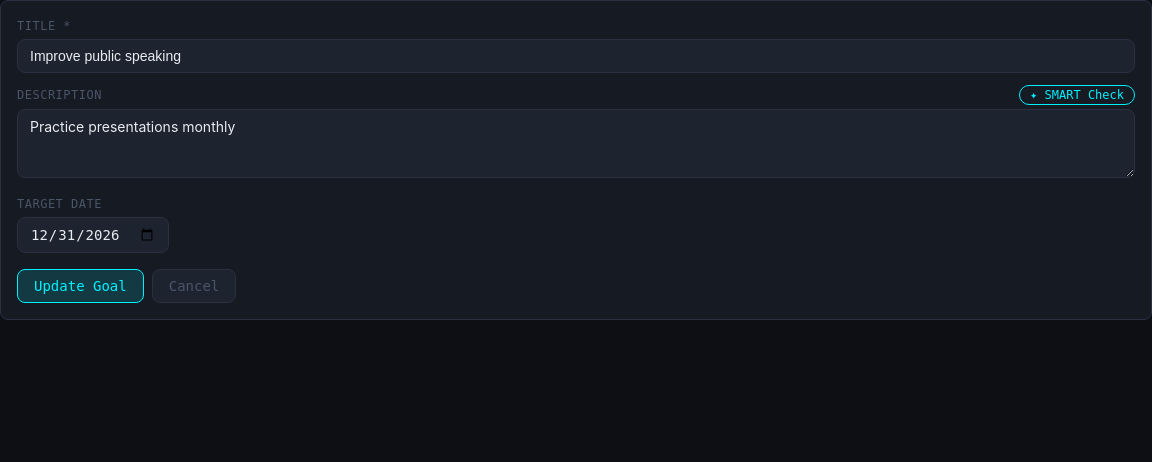
PdpGoalForm › should apply AI suggestion as description when no structured format
Click the button with test id "pdp-goal-smart-check-btn" at (1077, 95), box [1019,85,1135,105]
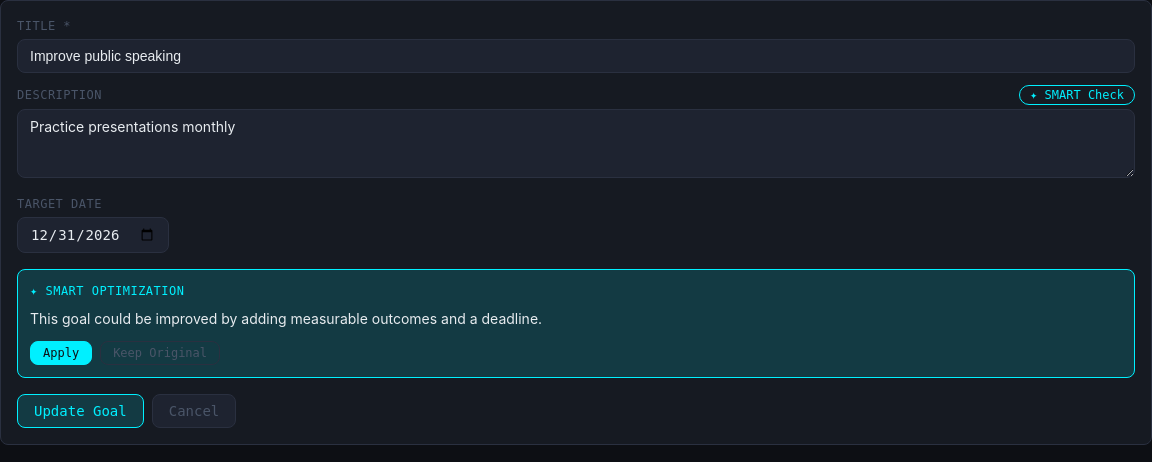
Now the element with test id "pdp-goal-ai-comparison" is shown, box [17,269,1135,378]
Click the button with test id "pdp-goal-ai-apply-btn" at (61, 353), box [30,341,92,365]
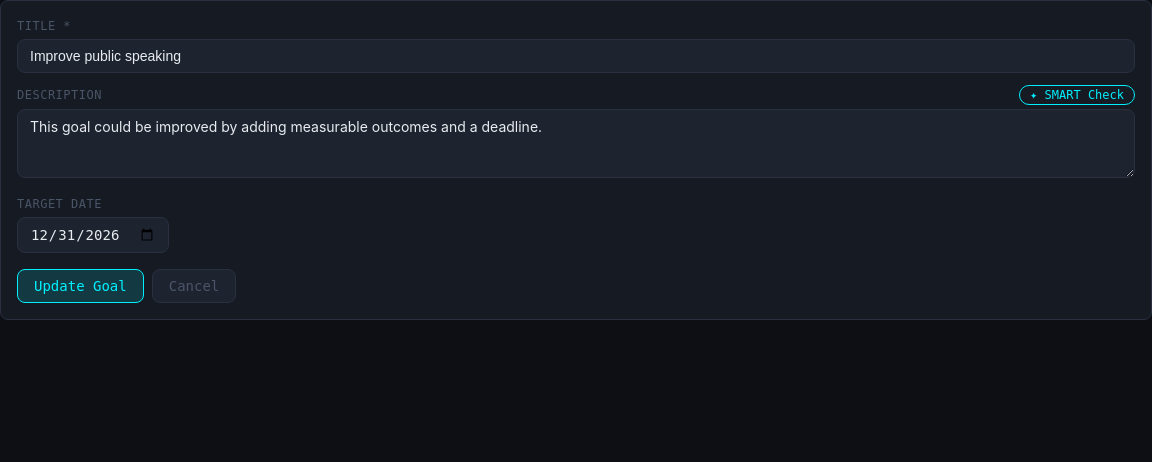
Now the text box with test id "pdp-goal-description-input" holds "This goal could be improved by adding measurable outcomes and a deadline.", box [17,109,1135,178]
